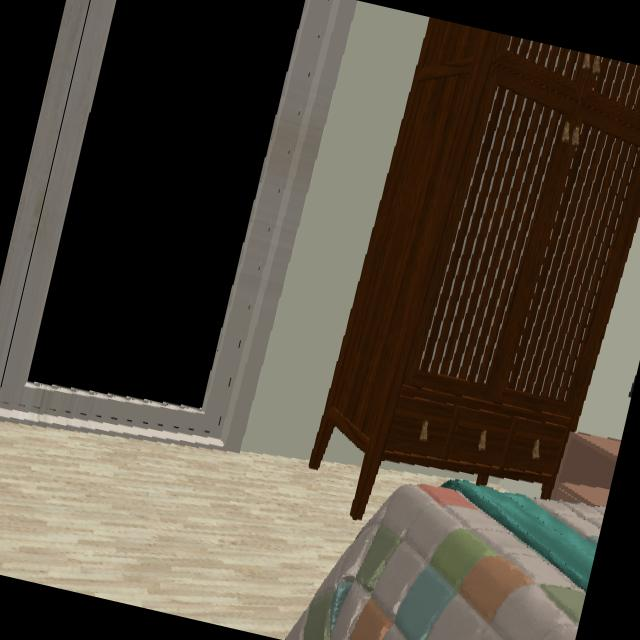bed: (283, 480, 605, 640)
lamp: (628, 372, 635, 400)
nighttable: (553, 433, 621, 505)
wardrobe: (308, 17, 640, 522)
